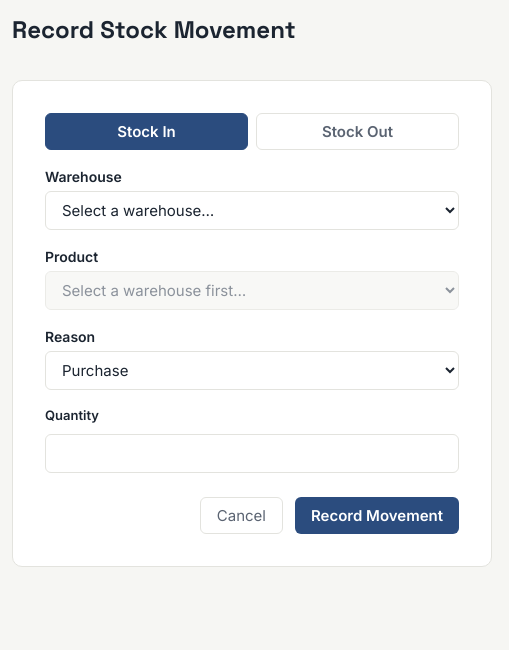
Scenario: TransactionForm › rejects a zero or negative quantity
Expected: the heading "Record Stock Movement" is shown, x1=12 y1=14 x2=296 y2=45
Step 1. Select "Main Warehouse" in the dropdown labelled "Warehouse" → point(252, 210), box x1=45 y1=191 x2=459 y2=230
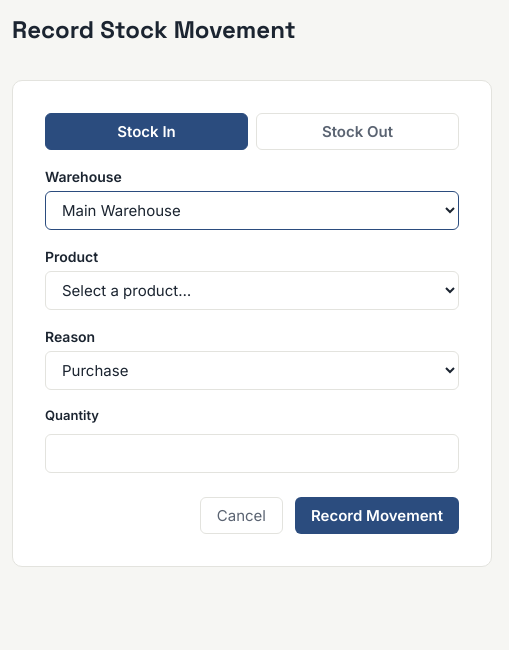
Step 2. Select "Wireless Mouse (WM-001) — 20 in stock" in the dropdown labelled "Product" → point(252, 290), box x1=45 y1=271 x2=459 y2=310
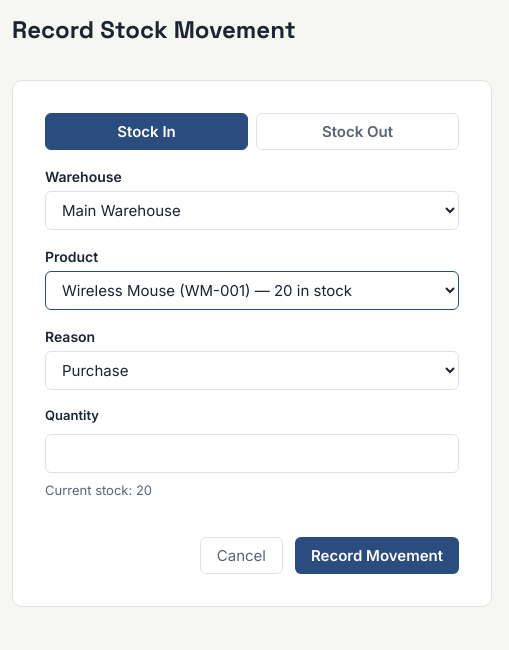
Step 3. Type "0" into the field labelled "Quantity" → point(252, 453), box x1=45 y1=434 x2=459 y2=472
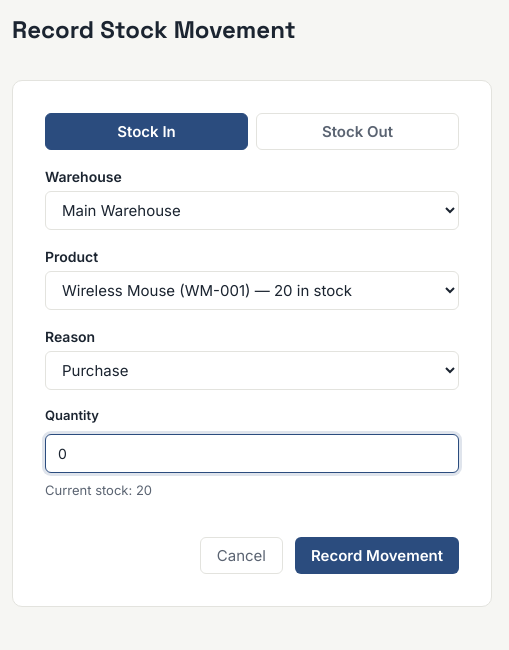
Step 4. Click the button "Record Movement" → point(377, 556), box x1=295 y1=537 x2=459 y2=574
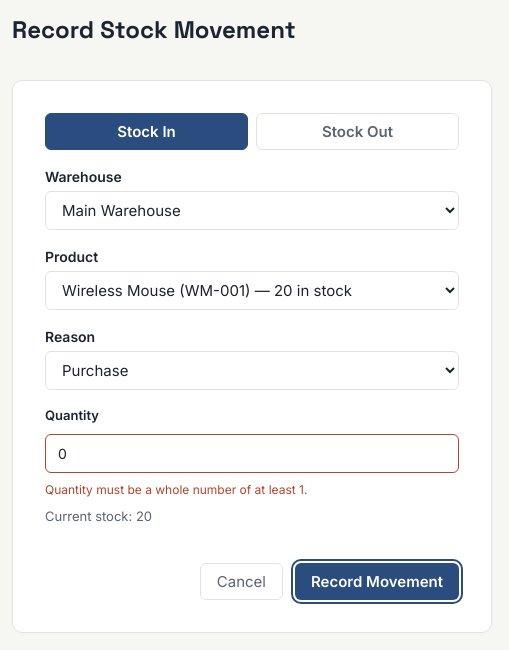
Result: the text "Quantity must be a whole number of at least 1." is shown at x1=45 y1=482 x2=307 y2=496
